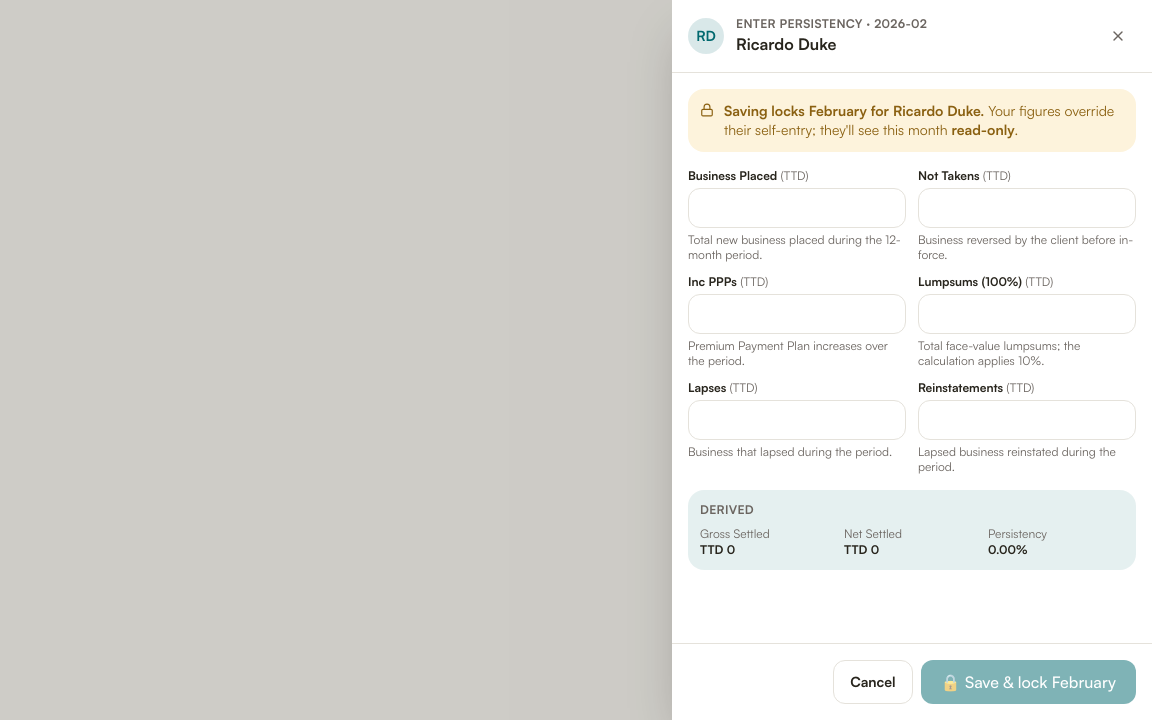
PersistencyEntryForm › surfaces save error inline without closing the form
In the number field with test id "persistency-input-businessPlaced": (797, 208) [688,188,906,228], type "357468.84"
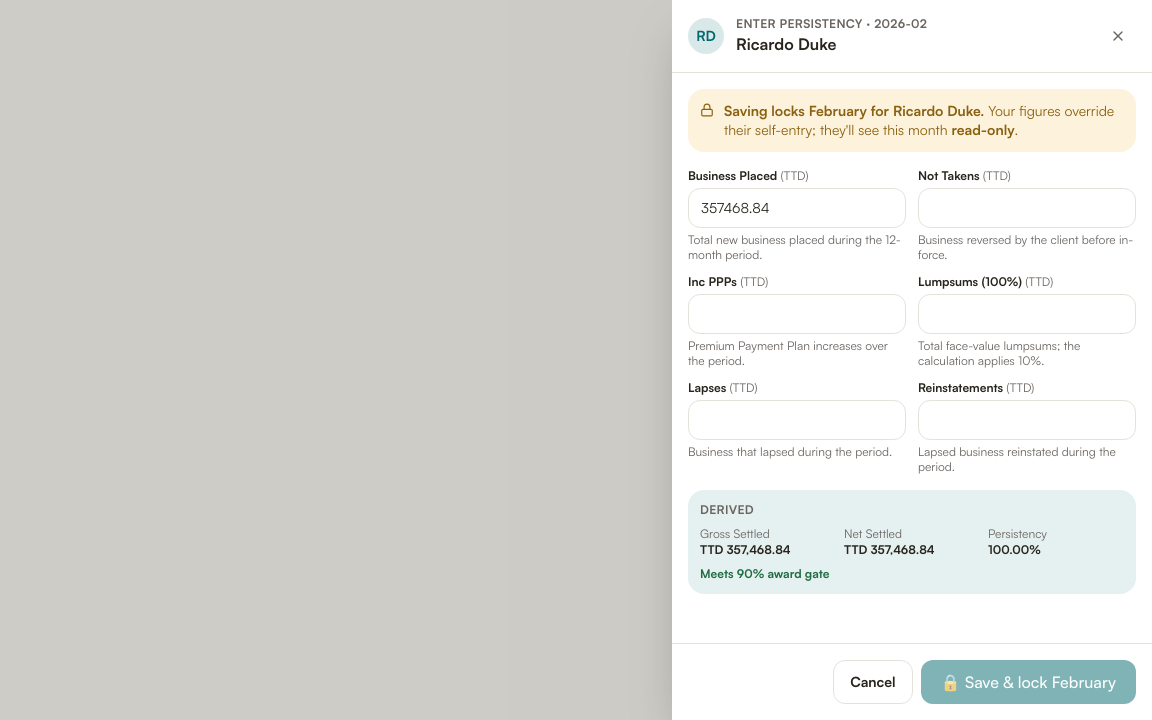
In the number field with test id "persistency-input-notTakens": (1027, 208) [918,188,1136,228], type "0"
In the number field with test id "persistency-input-incPPPs": (797, 314) [688,294,906,334], type "48000"
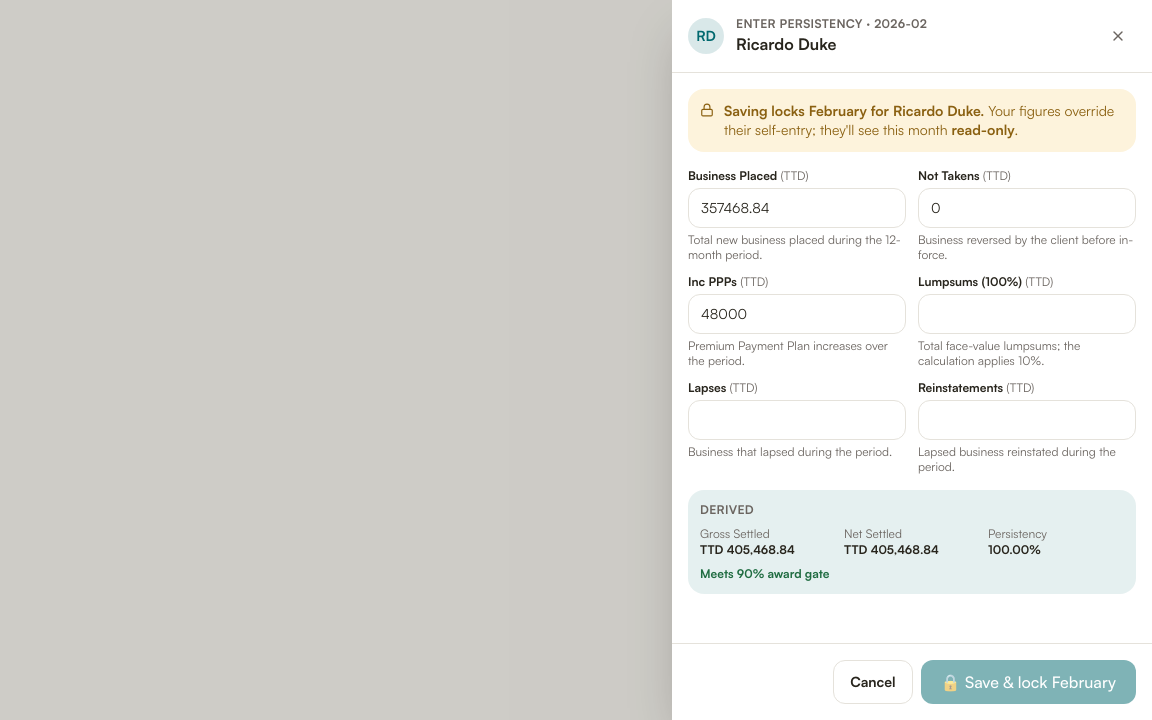
In the number field with test id "persistency-input-lumpsums100": (1027, 314) [918,294,1136,334], type "8666.9"
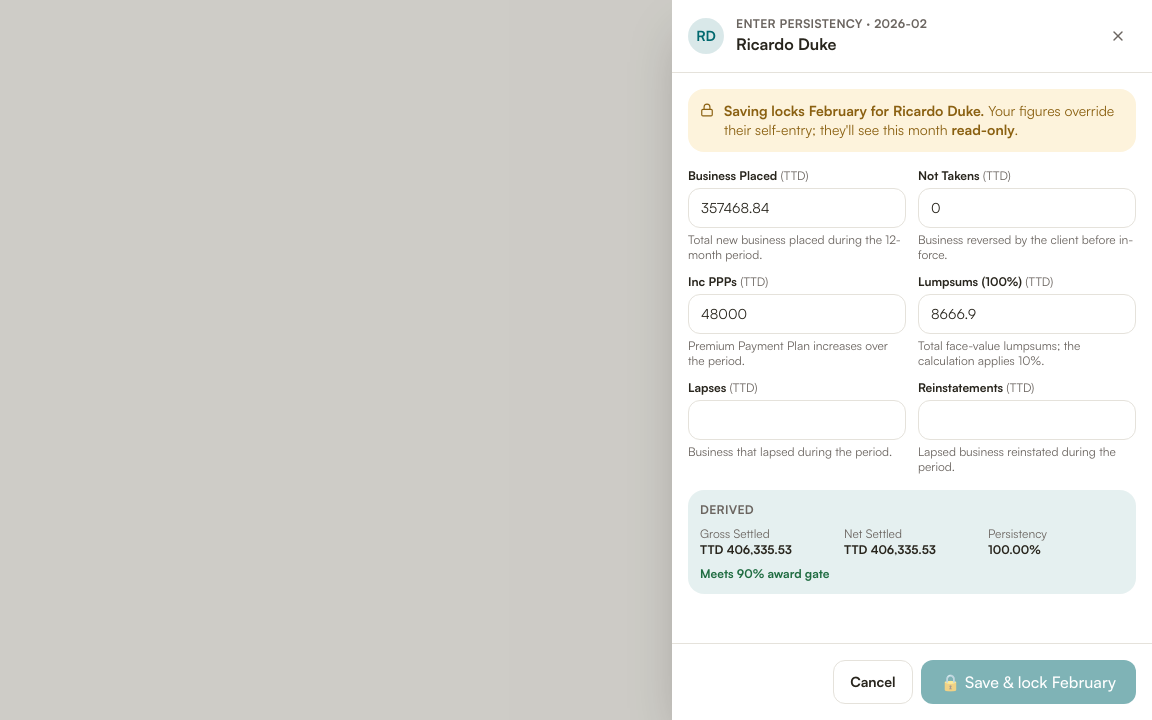
In the number field with test id "persistency-input-lapses": (797, 420) [688,400,906,440], type "133600.08"
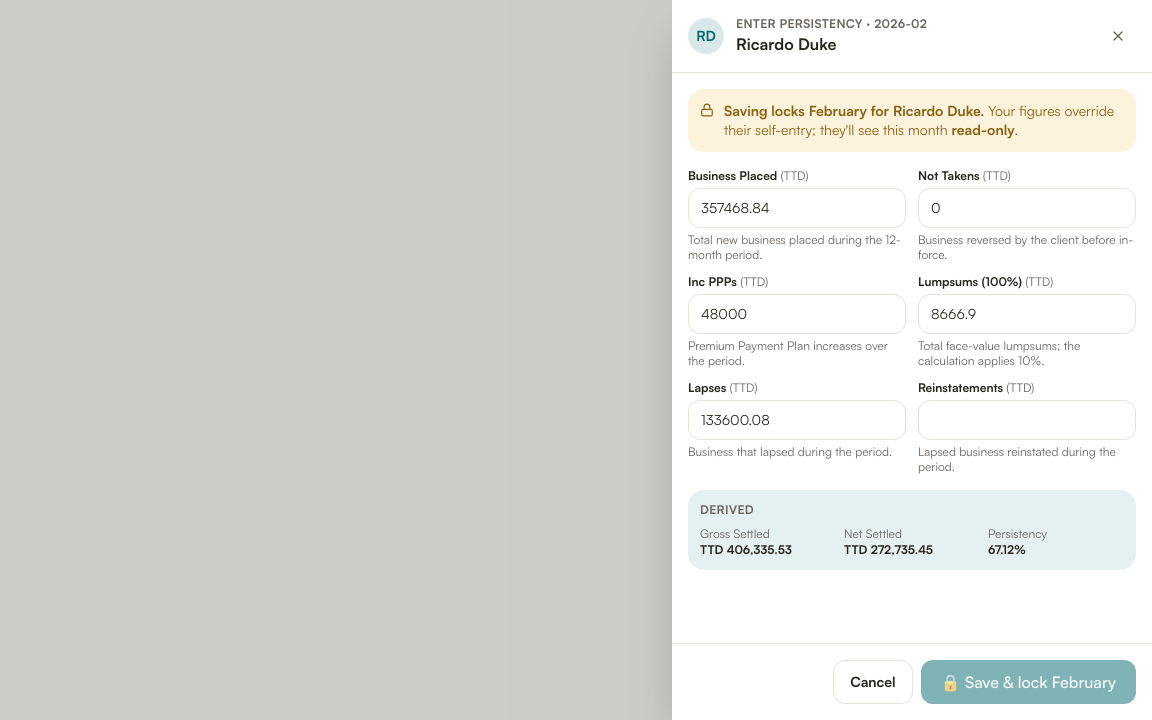
In the number field with test id "persistency-input-reinstatements": (1027, 420) [918,400,1136,440], type "27662.28"
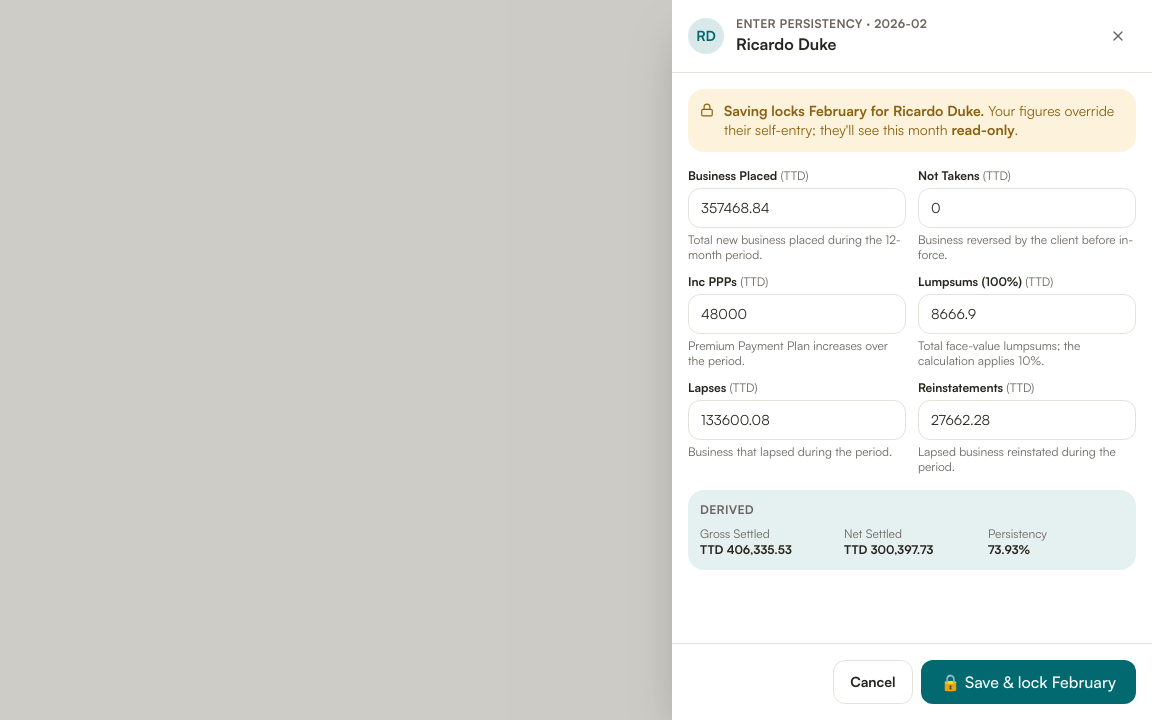
Click the button "🔒 Save & lock February": (1028, 682) [921,660,1136,704]
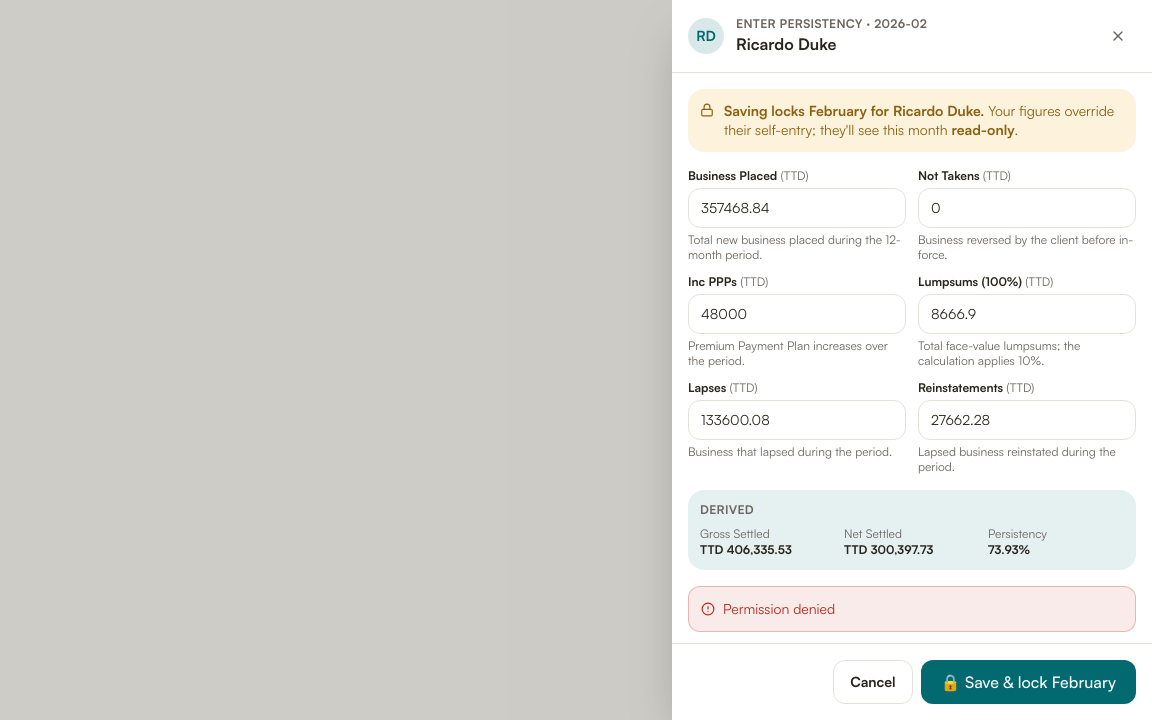
Expected: the text "Permission denied" is shown, [688,586,1136,632]
